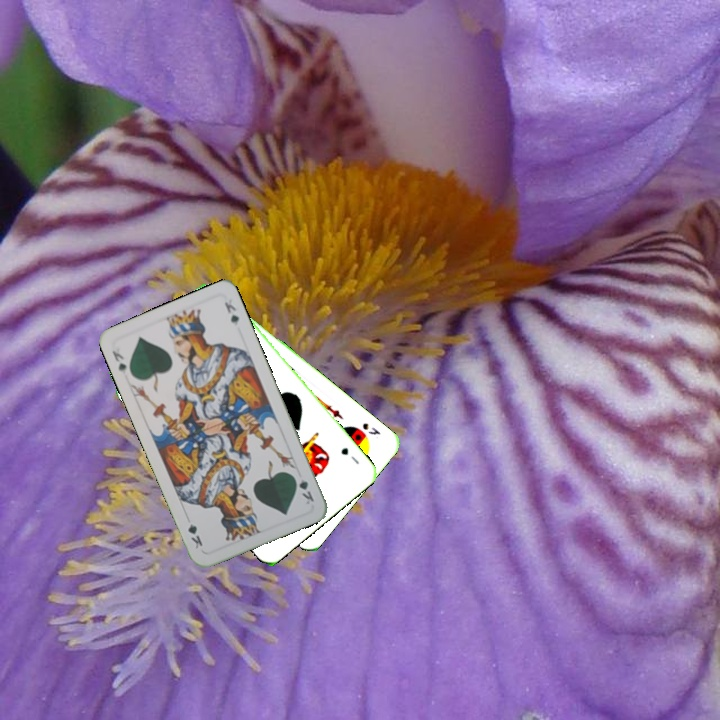GK: (289, 471, 317, 507), (108, 347, 129, 377)
GU: (337, 443, 362, 467)
SK: (358, 419, 383, 438)
